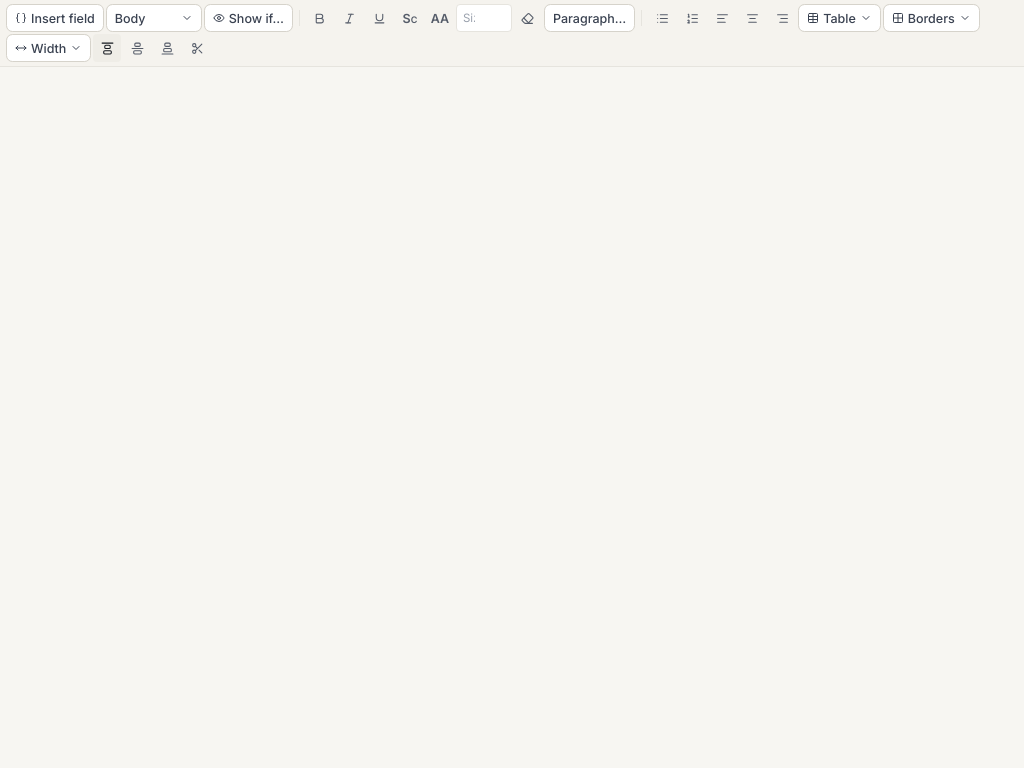
Test case: Column width › says why a width can't be had and leaves the table alone
Click the button "Width" at (49, 48), box [6,34,91,62]
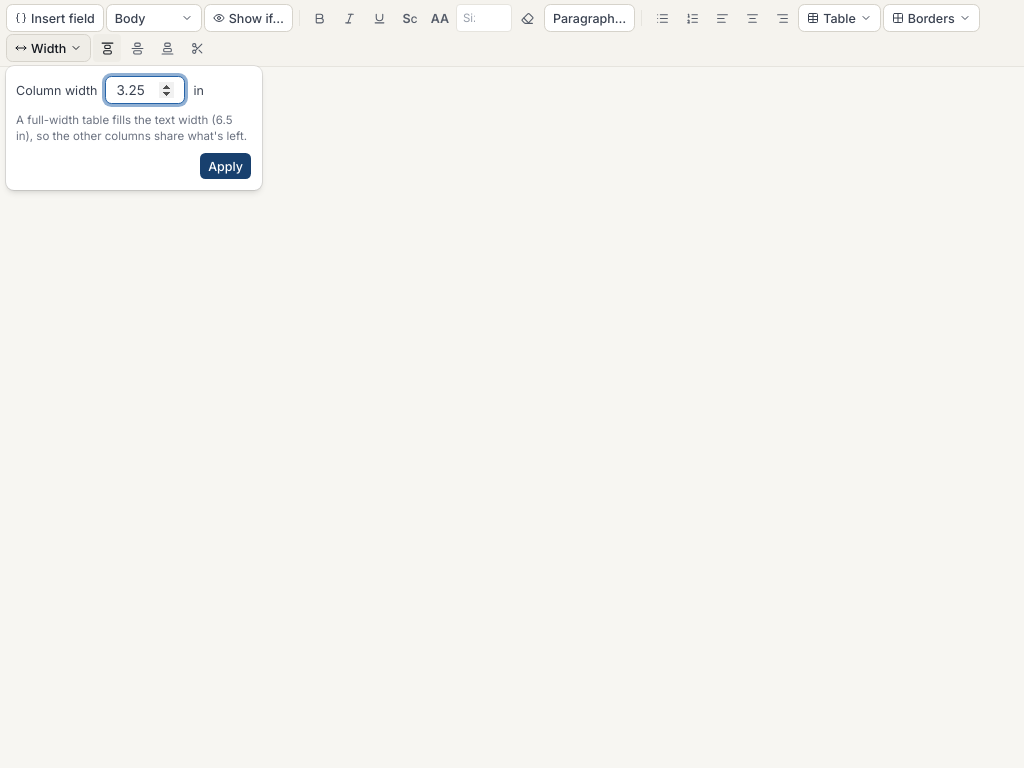
Replace the text in the number field labelled "Column width in" with "6.4" at (146, 90), box [106,76,186,104]
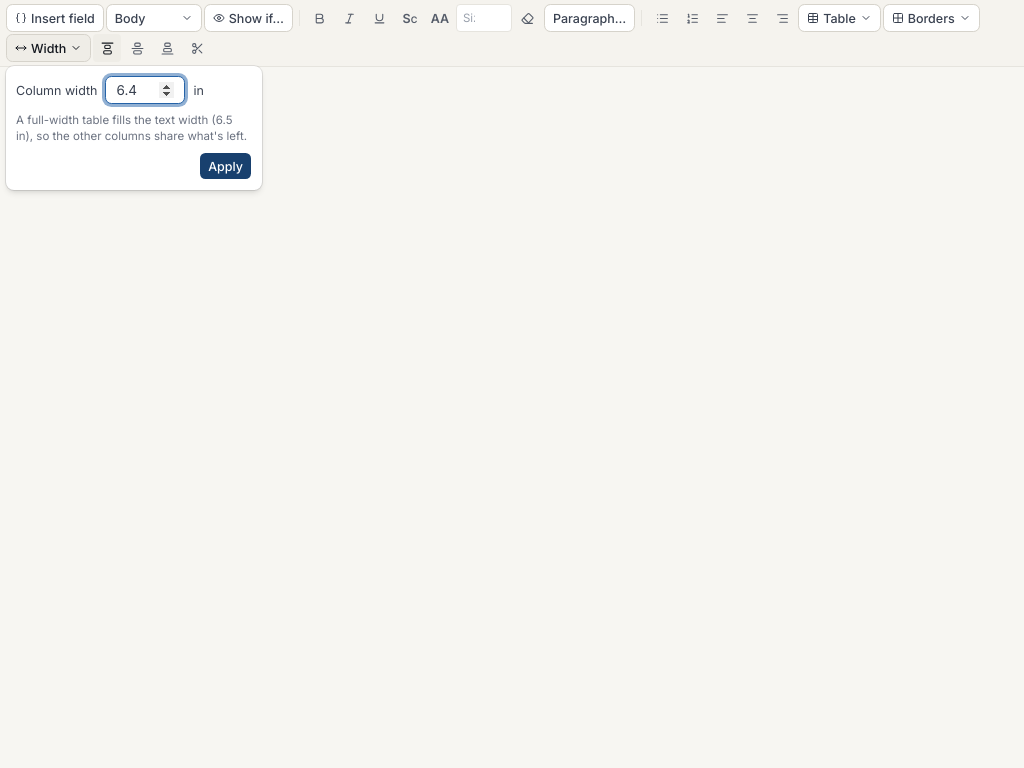
Click the button "Apply" at (226, 166), box [199,152,252,180]
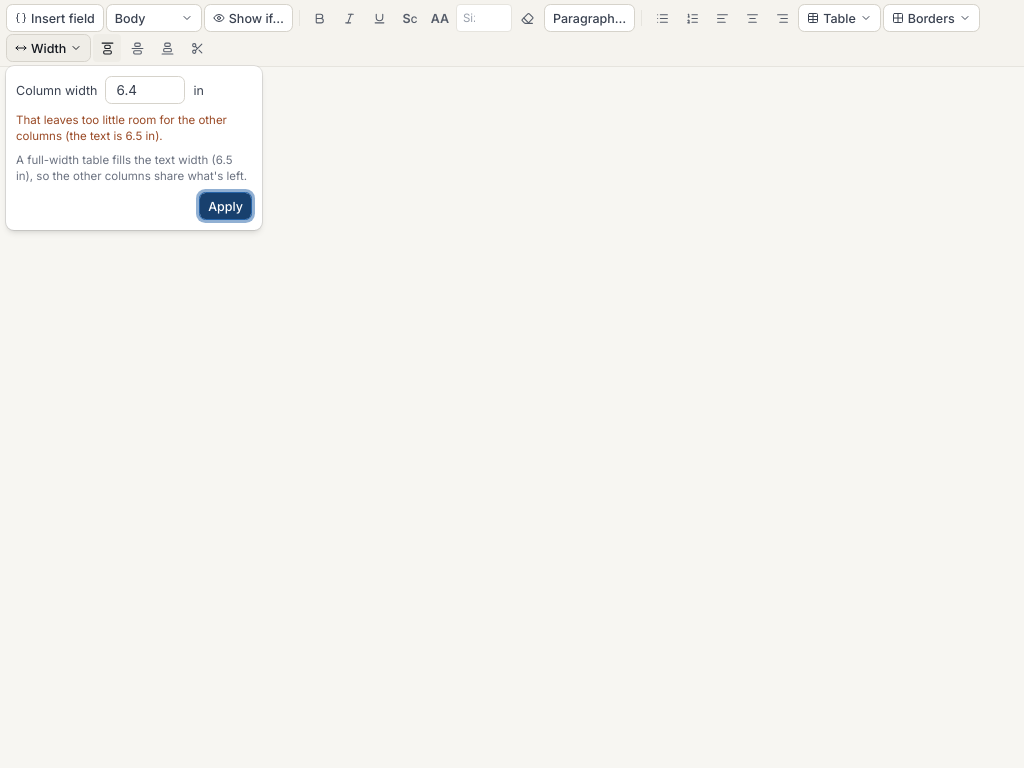
expect the text "too little room" is shown: met, box [16,113,227,143]
